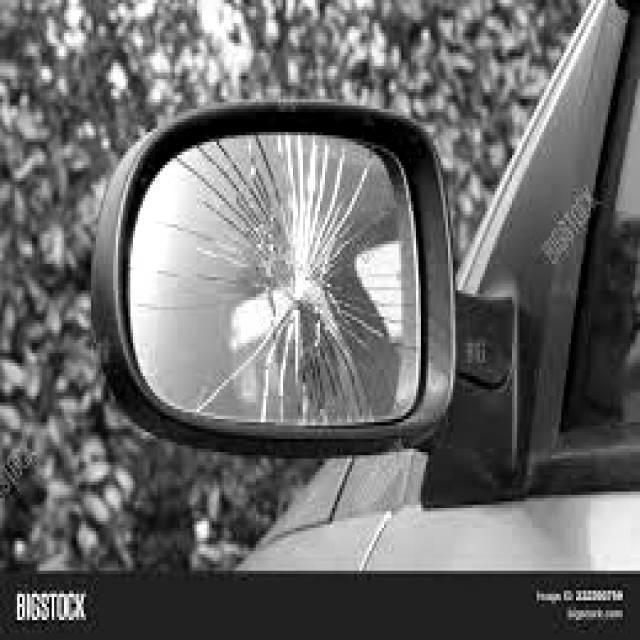Sidemirror-Damage: (69, 86, 477, 442)
